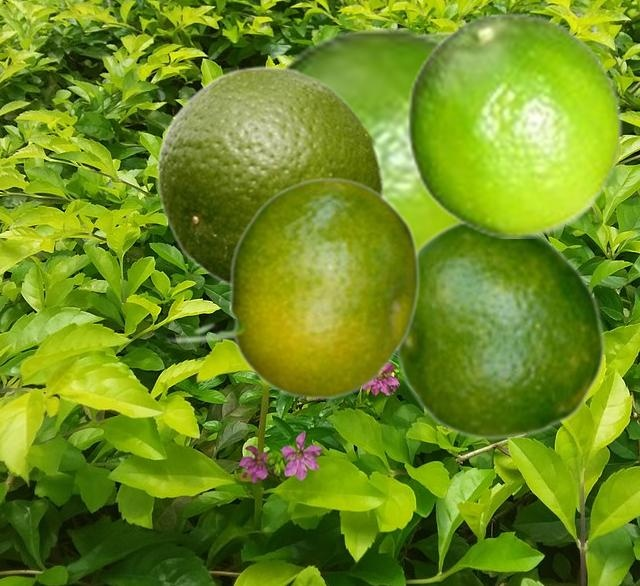calamansi: (165, 176, 419, 399), (156, 63, 384, 285), (406, 11, 623, 237), (393, 221, 606, 440), (278, 28, 454, 244)
